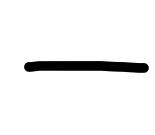minus: (22, 61, 145, 76)
